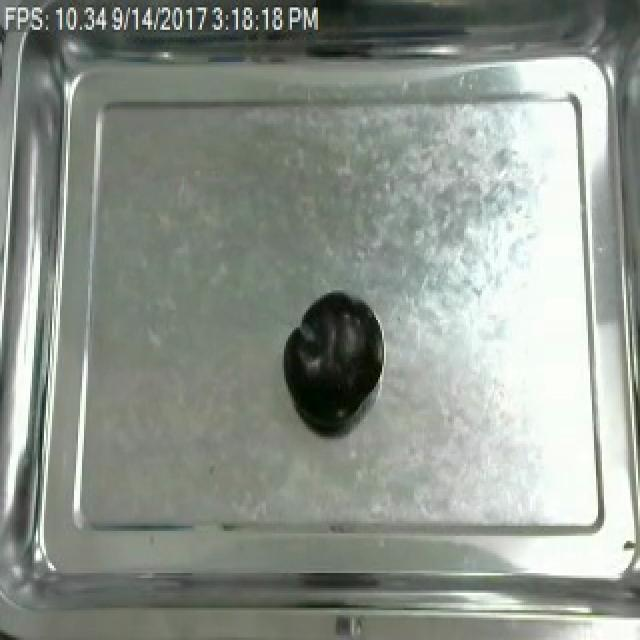Fruit: (280, 285, 382, 427)
